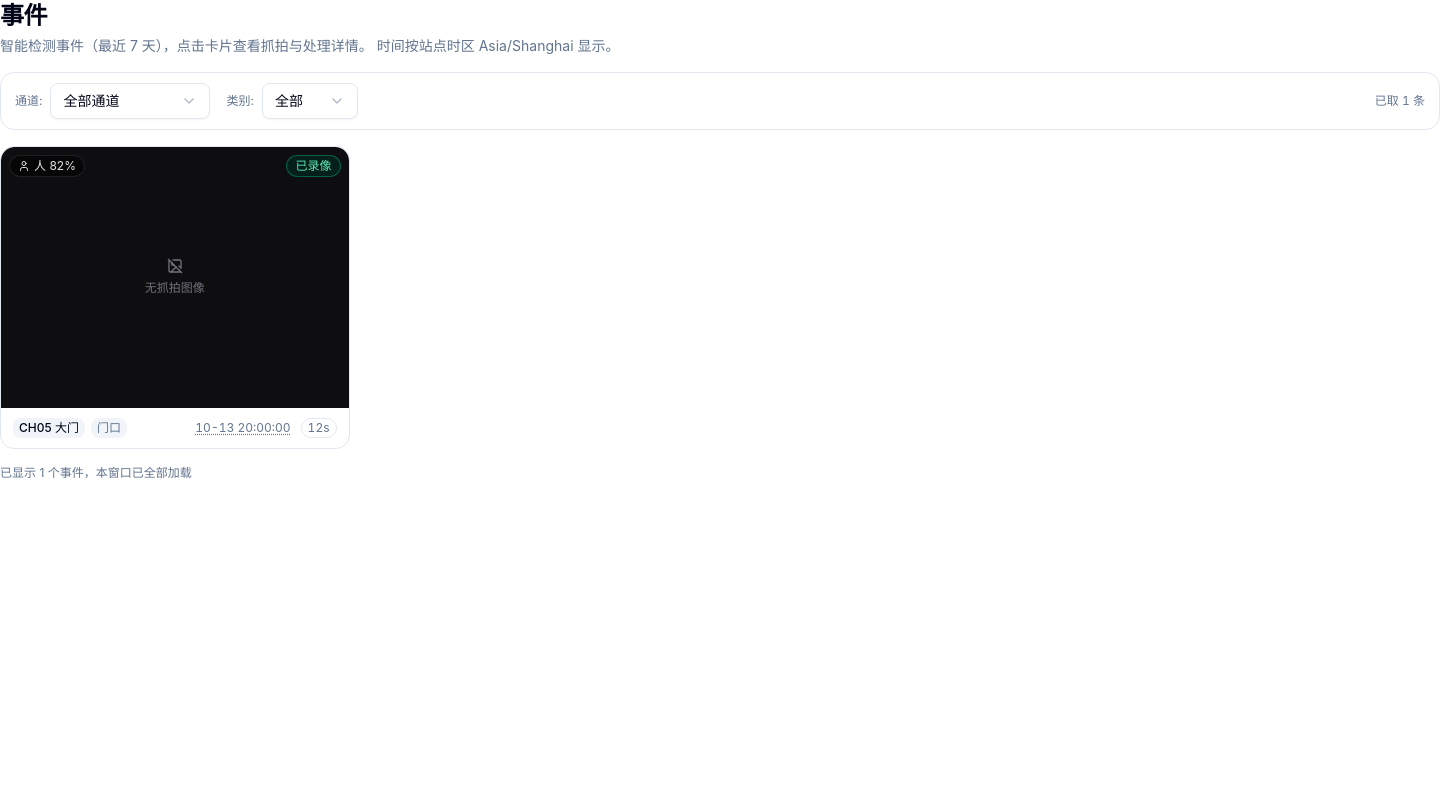
Test case: an event nobody was told about says so instead of showing an empty box
Click the button with test id "event-card" at (175, 297), box x1=0 y1=146 x2=350 y2=449
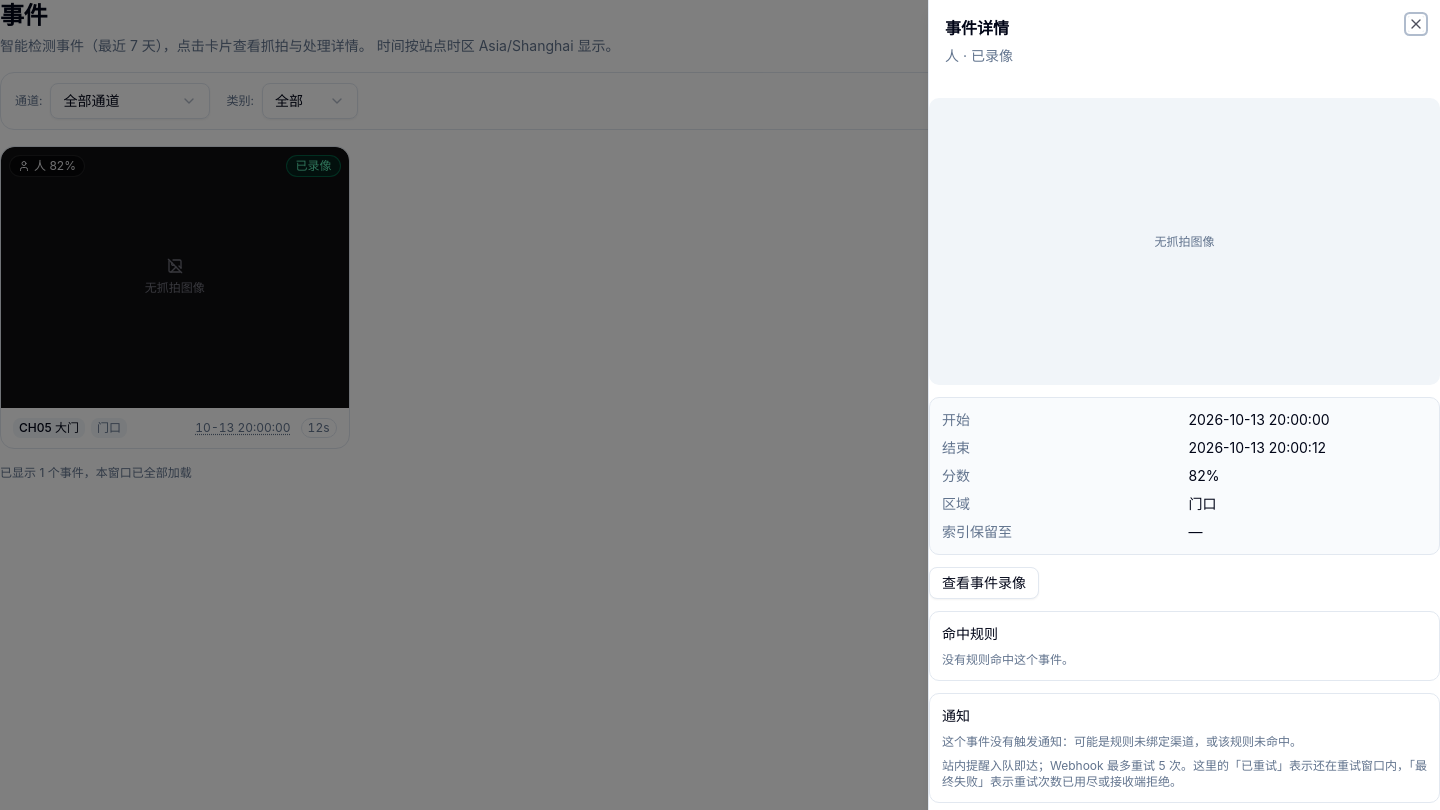
Now the text "这个事件没有触发通知：可能是规则未绑定渠道，或该规则未命中。" is shown, box x1=942 y1=734 x2=1302 y2=749
